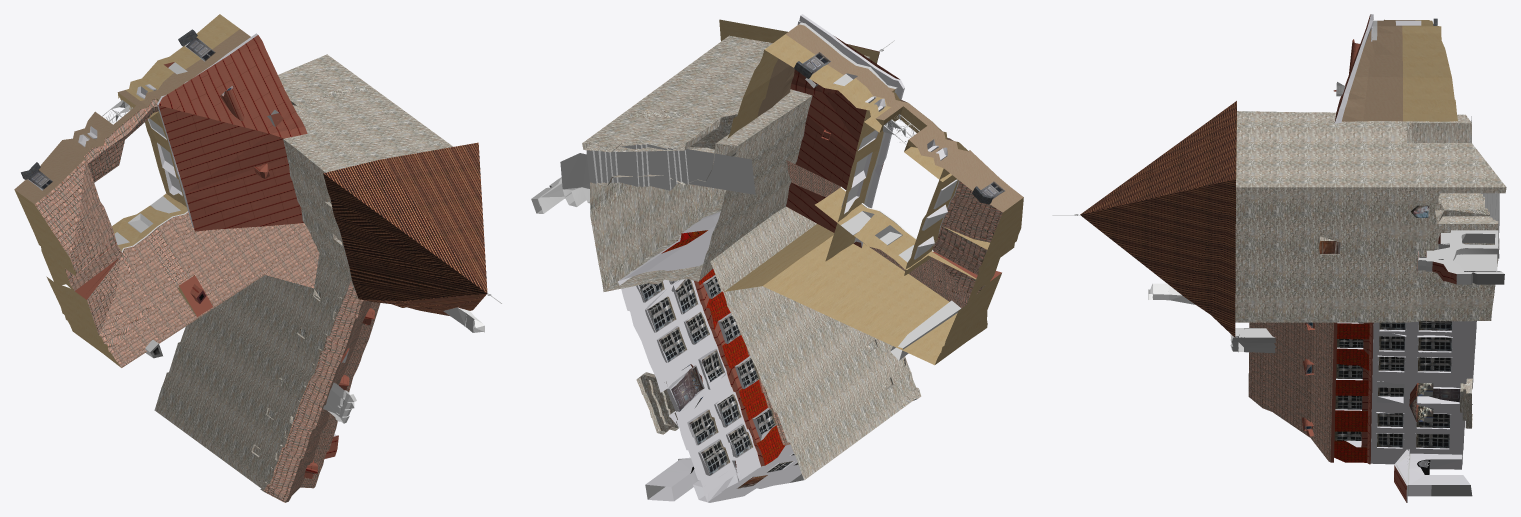
Rendered from Pikk_jalg_9-origo.obj.
3 renders of one model, left to right at view 1: azimuth 30°, elevation 25°; view 2: azimuth 150°, elevation 25°; view 3: azimuth 270°, elevation 25°, orthographic. The views are drawn at different scales.
Parts seen in each view (by area): view 1: Pikk_jalg_9; view 2: Pikk_jalg_9; view 3: Pikk_jalg_9.
Boxes of the visible parts, left/top/right/bottom form: Pikk_jalg_9: left=14, top=14, right=501, bottom=502; Pikk_jalg_9: left=531, top=14, right=1023, bottom=502; Pikk_jalg_9: left=1052, top=14, right=1506, bottom=502.
Size of the model in its own units: 32.19 by 34.5 by 32.43.
